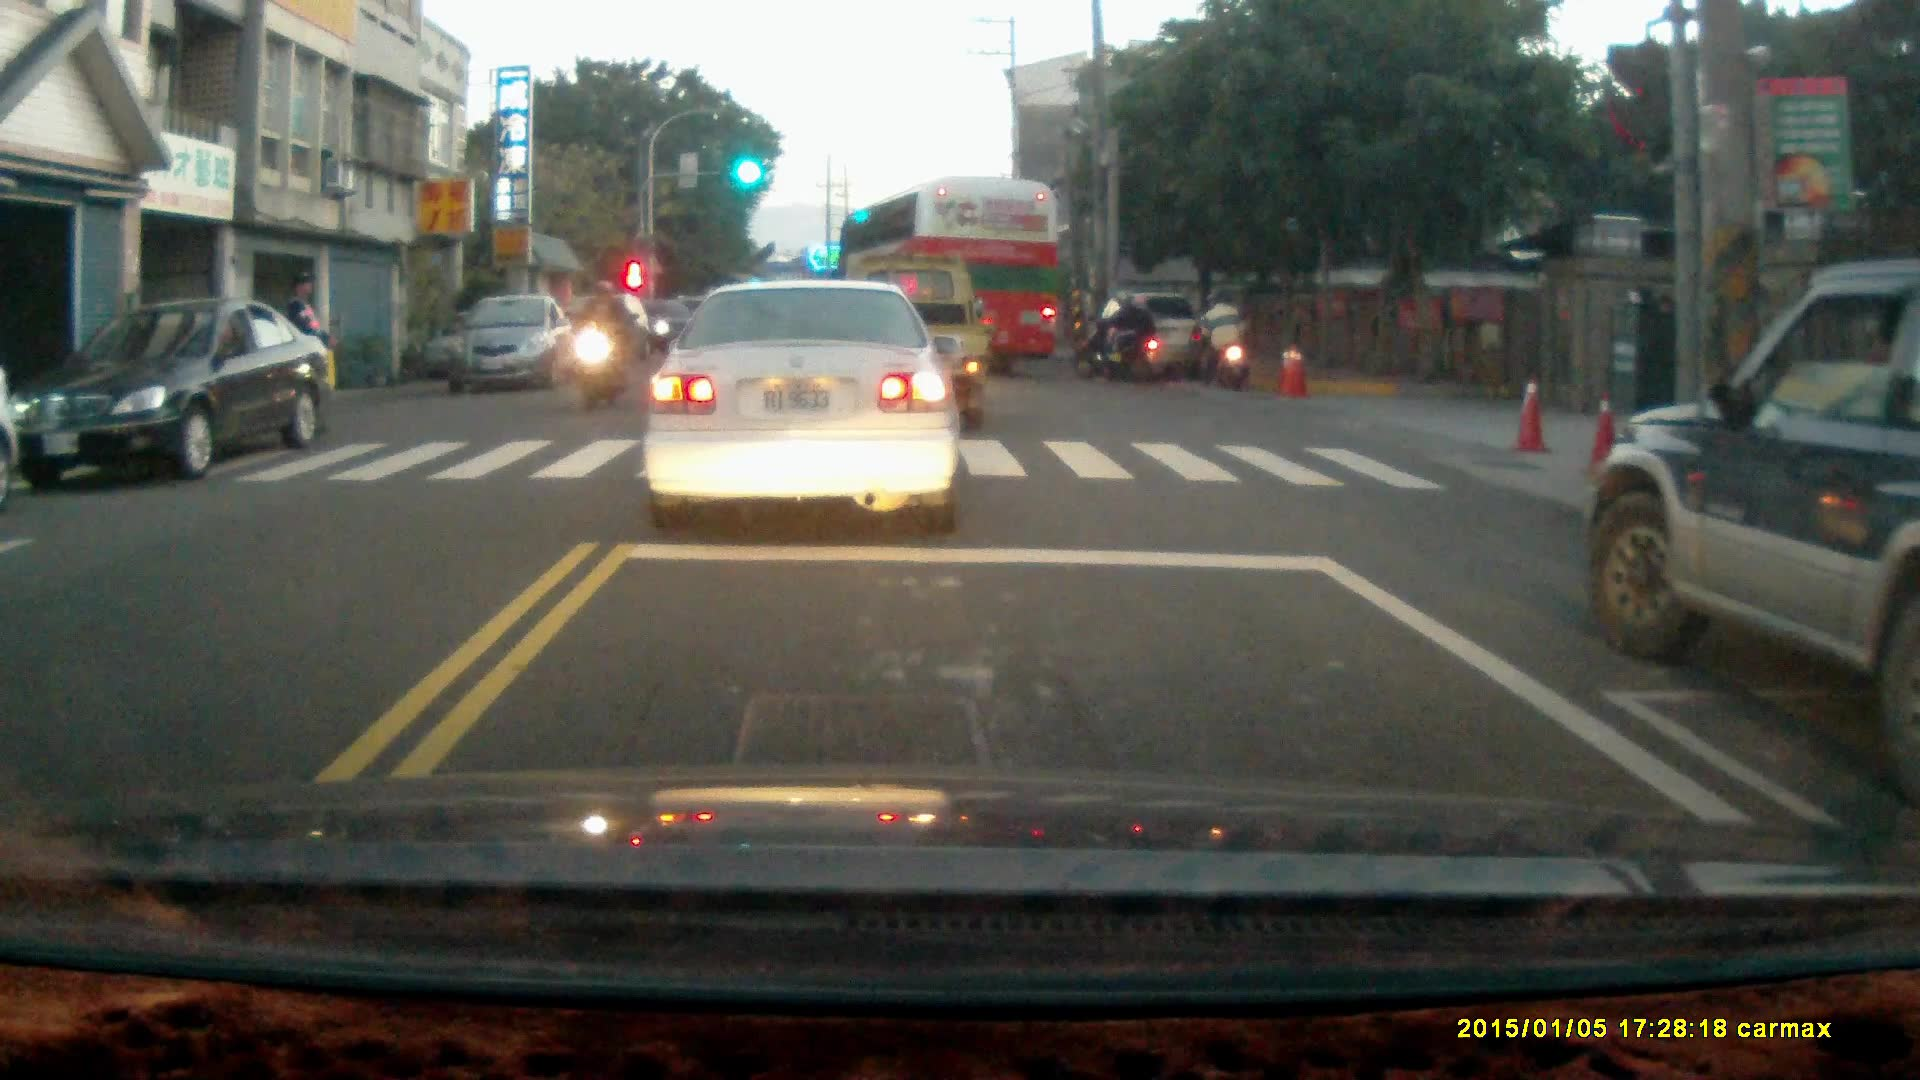pedestrian: (284, 273, 331, 431)
rider: (570, 277, 631, 412), (1079, 288, 1154, 382), (1194, 288, 1250, 391)
vehicle: (1593, 259, 1920, 819), (644, 275, 961, 533), (14, 297, 330, 492), (837, 172, 1065, 381), (436, 292, 583, 394), (1093, 290, 1211, 381), (559, 298, 653, 372)
